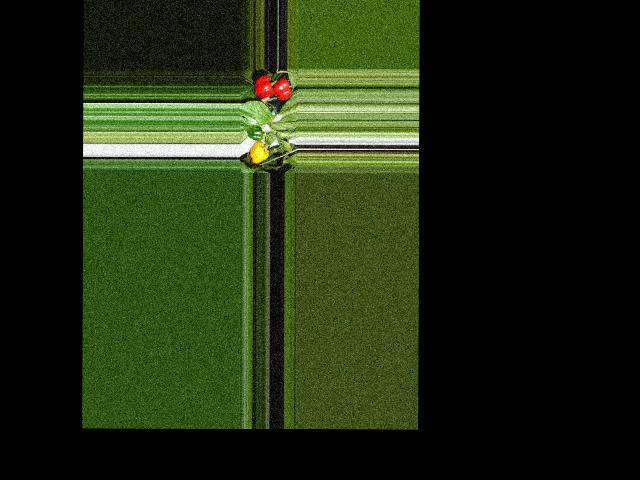bell_pepper: (248, 140, 269, 165)
